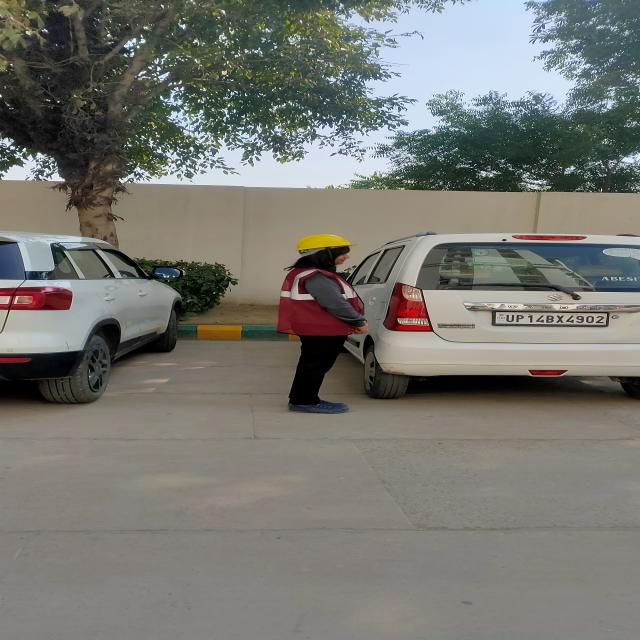safe: (282, 234, 367, 413)
